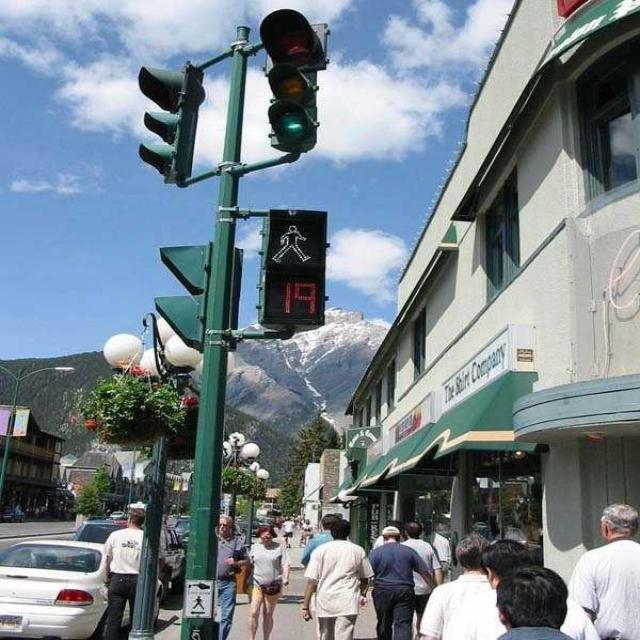Traffic Light -Green-: (260, 7, 323, 159)
